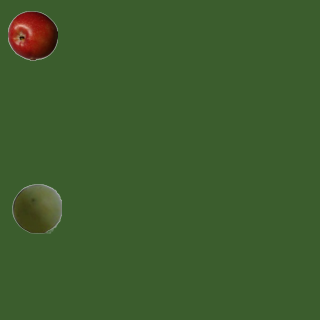Apple Braeburn: (7, 10, 57, 60)
Grape White 4: (11, 183, 61, 233)
